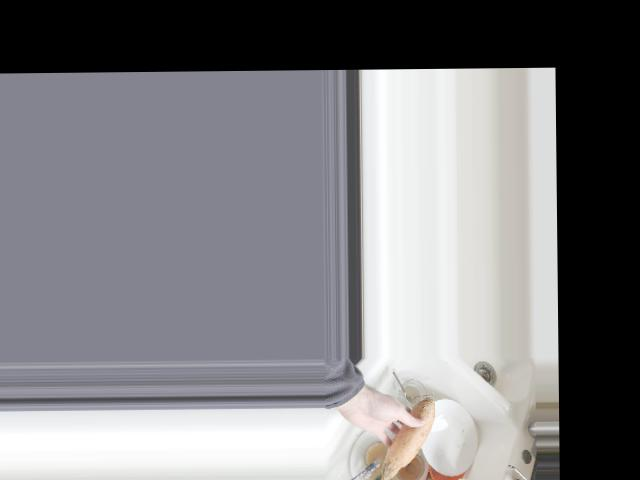sweet_potato: (375, 397, 438, 480)
